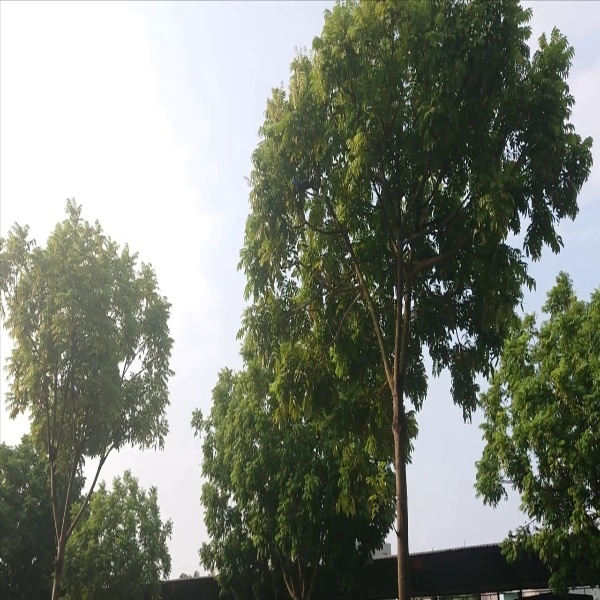drone: (289, 165, 324, 205)
